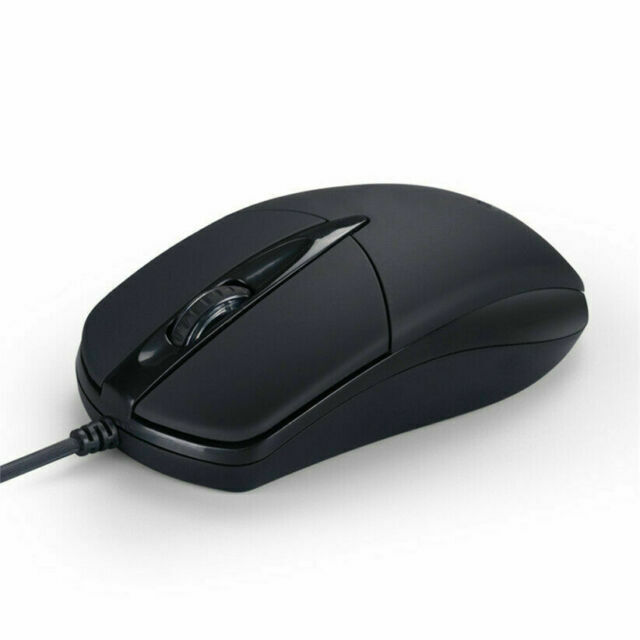mouse: (68, 166, 598, 496)
